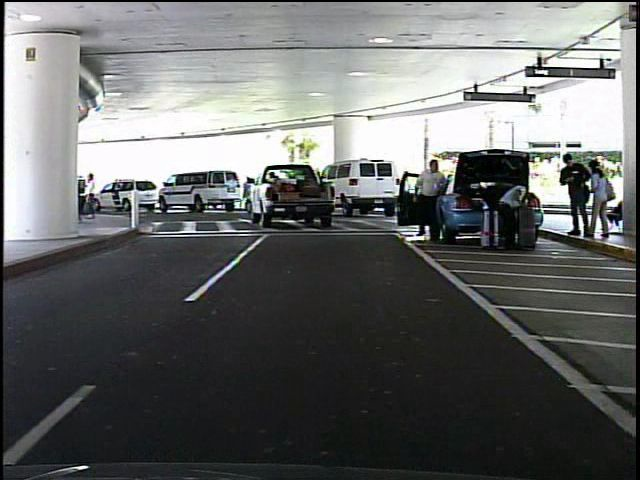person: (410, 158, 448, 242), (494, 173, 533, 252), (557, 150, 590, 242), (582, 158, 614, 245), (241, 174, 255, 211)
